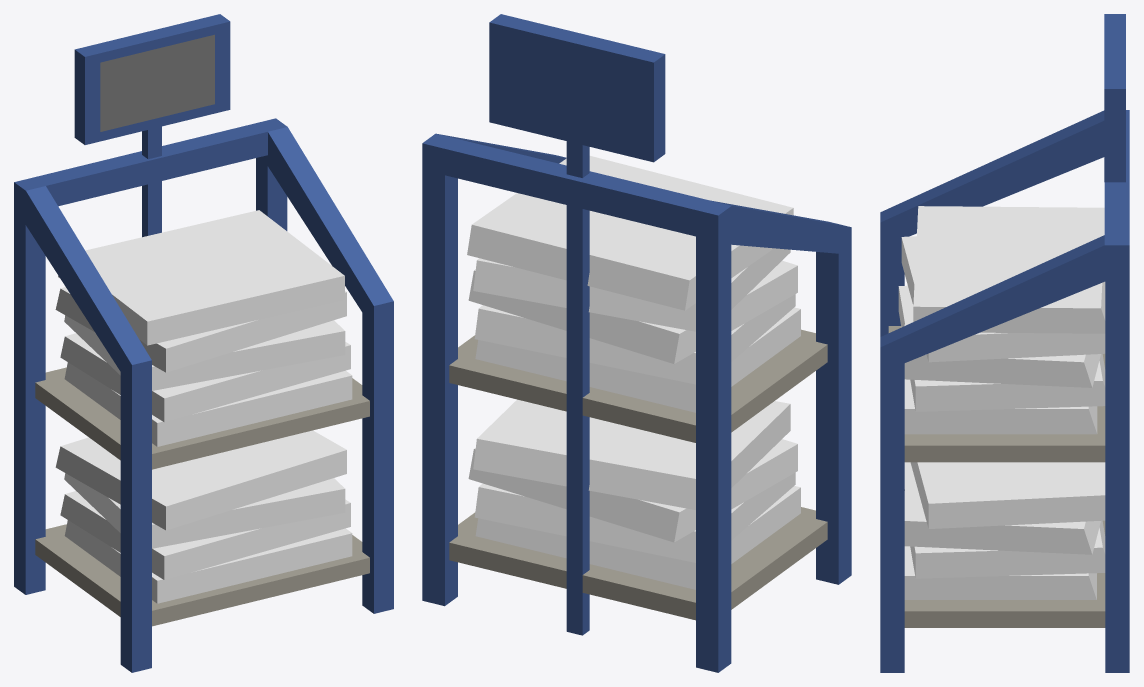
The model's file is NewsPaperStand.glb.
3 renders of one model, left to right at view 1: azimuth 30°, elevation 25°; view 2: azimuth 150°, elevation 25°; view 3: azimuth 270°, elevation 25°, orthographic. The views are drawn at different scales.
Visible parts, largest first — view 1: Newspaper_Stand, Newspaper_1, Newspaper_6, Newspaper_5, Newspaper_8, Newspaper_4, Newspaper_9, Newspaper_7, Newspaper_3, Newspaper_2; view 2: Newspaper_Stand, Newspaper_1, Newspaper_6, Newspaper_7, Newspaper_3, Newspaper_5, Newspaper_2, Newspaper_8, Newspaper_4, Newspaper_9; view 3: Newspaper_Stand, Newspaper_1, Newspaper_6, Newspaper_7, Newspaper_4, Newspaper_8, Newspaper_5, Newspaper_3, Newspaper_9, Newspaper_2.
Part boxes in pixels (x1,y1,x2,y2): Newspaper_Stand: (14,14,393,672); Newspaper_1: (58,210,344,345); Newspaper_6: (55,430,346,530); Newspaper_5: (64,362,352,446); Newspaper_8: (60,491,350,579); Newspaper_4: (60,333,350,422); Newspaper_9: (64,520,352,603); Newspaper_7: (64,473,345,548); Newspaper_3: (64,315,345,390); Newspaper_2: (55,287,346,372); Newspaper_Stand: (422,14,851,672); Newspaper_1: (467,156,793,310); Newspaper_6: (473,399,790,510); Newspaper_7: (468,439,797,542); Newspaper_3: (468,260,797,363); Newspaper_5: (475,307,800,412); Newspaper_2: (473,248,790,331); Newspaper_8: (474,472,795,562); Newspaper_4: (474,294,795,384); Newspaper_9: (475,486,800,589); Newspaper_Stand: (880,14,1129,672); Newspaper_1: (913,206,1105,333); Newspaper_6: (910,462,1105,528); Newspaper_7: (904,466,1100,554); Newspaper_4: (898,285,1105,411); Newspaper_8: (904,462,1105,578); Newspaper_5: (901,326,1097,434); Newspaper_3: (904,299,1100,387); Newspaper_9: (904,546,1096,599); Newspaper_2: (901,236,1105,362).
Bounding box in the file's own units: 0.8578 × 1.64 × 0.6689.
Materials: 1 (1 with a texture image).
